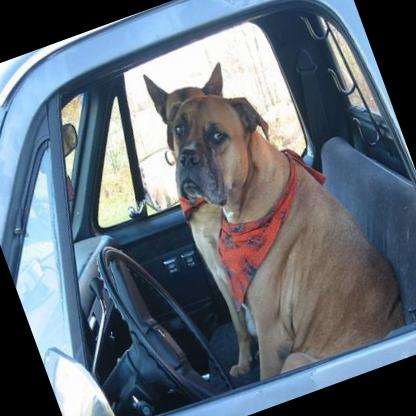bull_mastiff: (147, 51, 415, 388), (119, 43, 324, 382)
